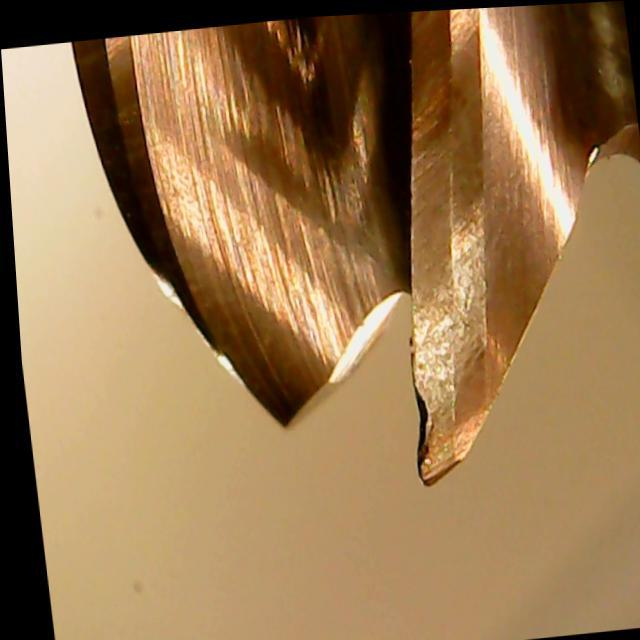Tool-wear-class-1: (369, 206, 513, 491)
